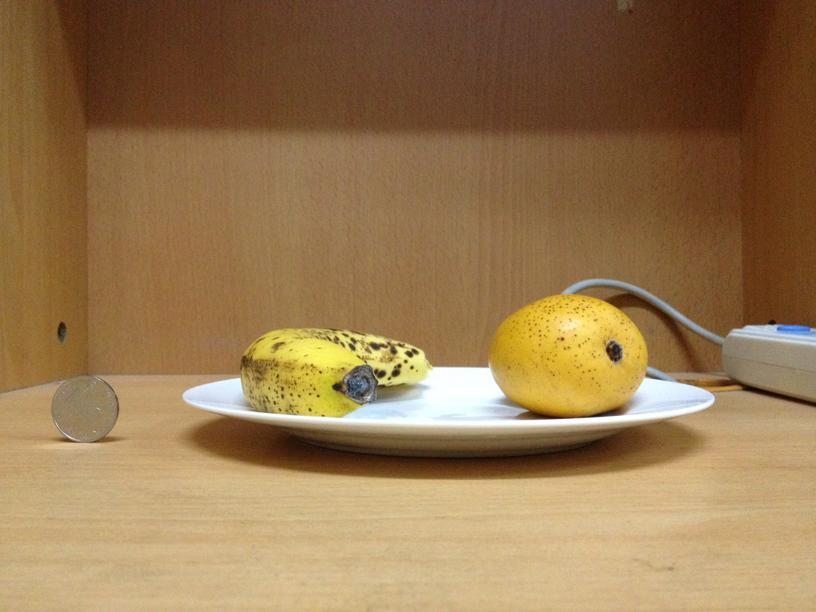banana: (240, 325, 429, 415)
coin: (51, 375, 119, 443)
mango: (492, 292, 647, 415)
